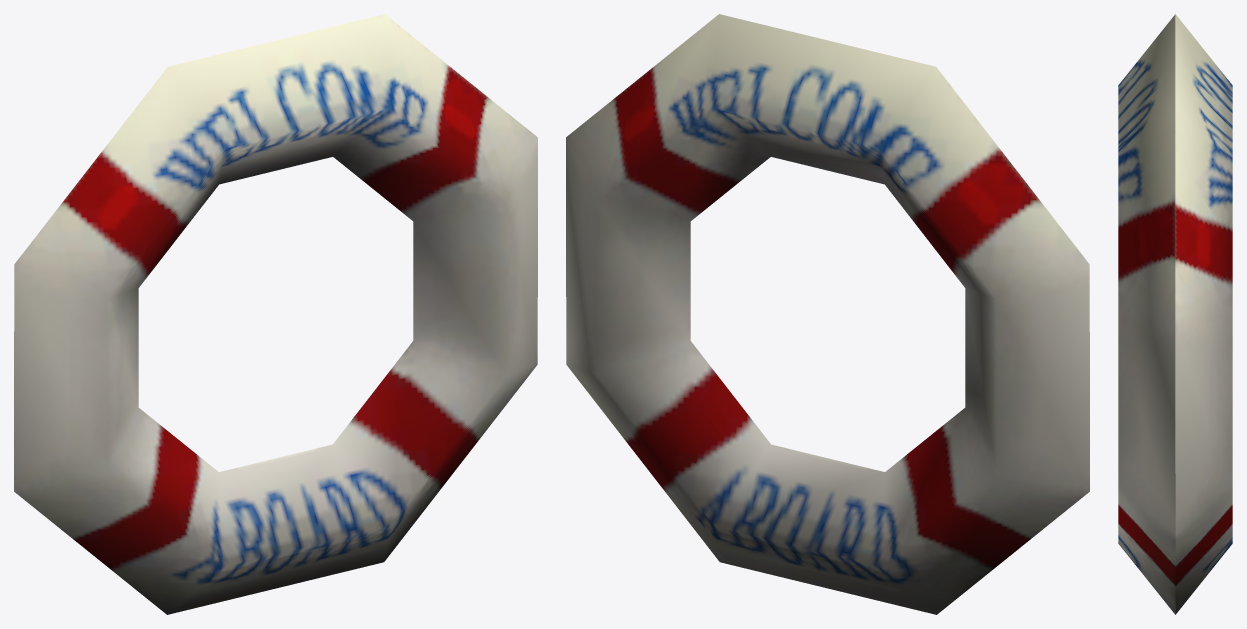
File: furni_0200072.FBX
3 renders of one model, left to right at view 1: azimuth 30°, elevation 25°; view 2: azimuth 150°, elevation 25°; view 3: azimuth 270°, elevation 25°, orthographic. The views are drawn at different scales.
Visible parts, largest first — view 1: furni_0200072; view 2: furni_0200072; view 3: furni_0200072.
Boxes of the visible parts, bbox=[...] form: furni_0200072: bbox=[14, 14, 537, 614]; furni_0200072: bbox=[566, 14, 1089, 614]; furni_0200072: bbox=[1118, 14, 1232, 614].
Bounding box in the file's own units: 71.81 × 71.81 × 14.77.
